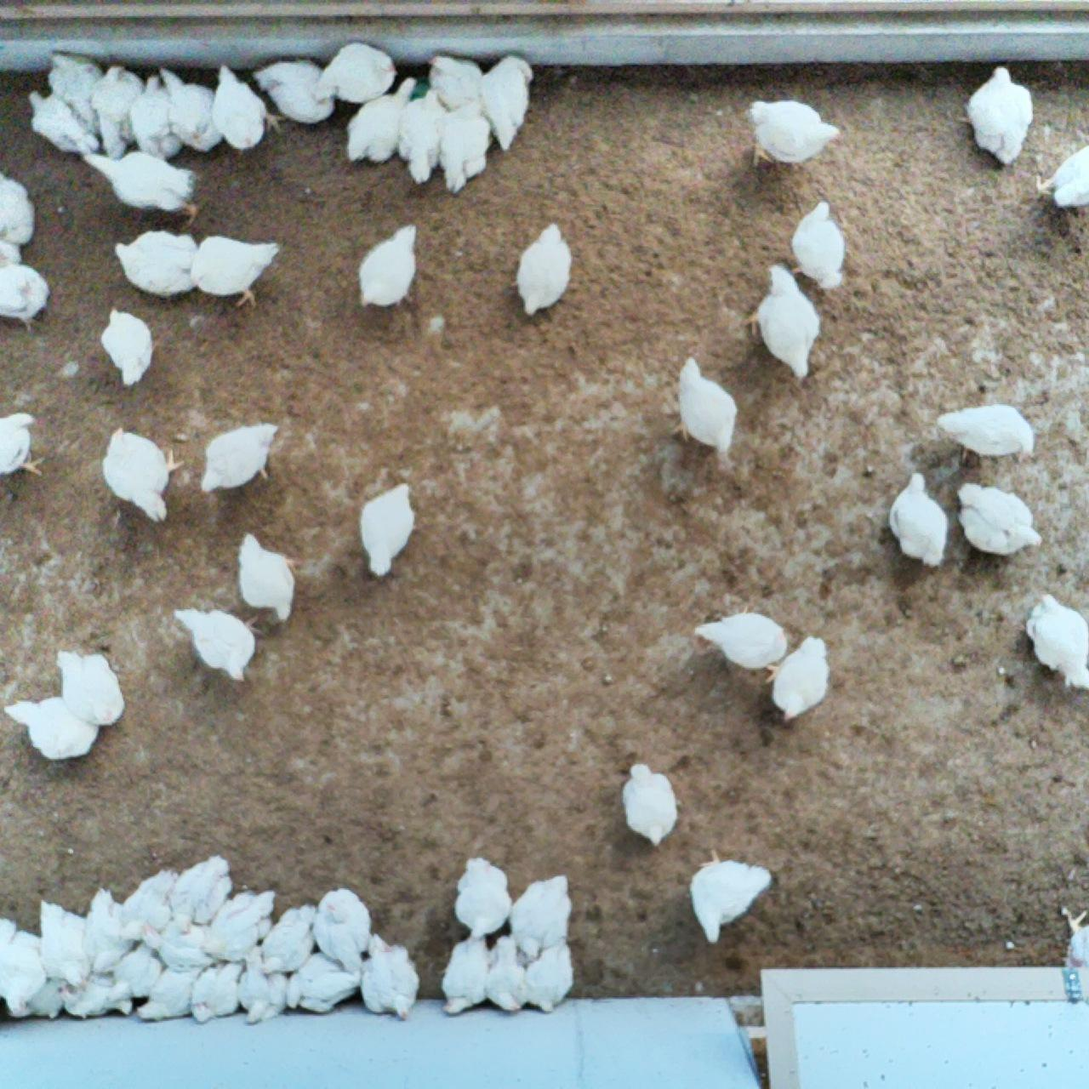chicken: (80, 146, 201, 227), (749, 262, 824, 380), (692, 843, 777, 947), (101, 423, 183, 524), (341, 70, 425, 167), (961, 59, 1034, 168), (185, 232, 282, 312), (672, 351, 740, 460), (950, 480, 1042, 559), (165, 604, 258, 682), (1020, 588, 1089, 691), (199, 416, 284, 499), (746, 95, 840, 170), (0, 696, 102, 765), (353, 216, 422, 317), (934, 399, 1036, 467), (207, 62, 284, 152), (694, 604, 792, 674), (235, 528, 304, 627), (508, 220, 577, 318), (760, 630, 830, 726), (356, 480, 422, 581), (114, 227, 202, 302), (508, 872, 576, 966), (153, 64, 223, 155), (428, 94, 493, 192), (888, 472, 950, 572), (353, 934, 423, 1022), (53, 649, 128, 731), (78, 885, 142, 977), (313, 40, 395, 111), (202, 884, 279, 959), (254, 55, 336, 124), (790, 194, 847, 293), (119, 865, 181, 956), (22, 85, 99, 158), (395, 83, 449, 187), (31, 897, 90, 991), (285, 949, 361, 1020), (451, 853, 510, 943), (620, 762, 680, 850), (483, 51, 537, 148), (127, 71, 185, 161), (477, 934, 537, 1021), (312, 888, 374, 971), (90, 63, 144, 158), (174, 852, 237, 933), (0, 909, 45, 1018), (255, 899, 317, 977), (100, 302, 156, 388), (517, 941, 579, 1016), (44, 48, 102, 127), (52, 971, 131, 1025), (105, 941, 165, 1008), (188, 961, 245, 1030), (0, 255, 48, 336), (1040, 141, 1089, 217), (135, 967, 199, 1025), (0, 405, 45, 486), (141, 919, 213, 969), (429, 50, 486, 111), (1046, 906, 1089, 983), (241, 953, 285, 1026), (0, 162, 36, 249), (20, 966, 64, 1018), (0, 233, 29, 269)
